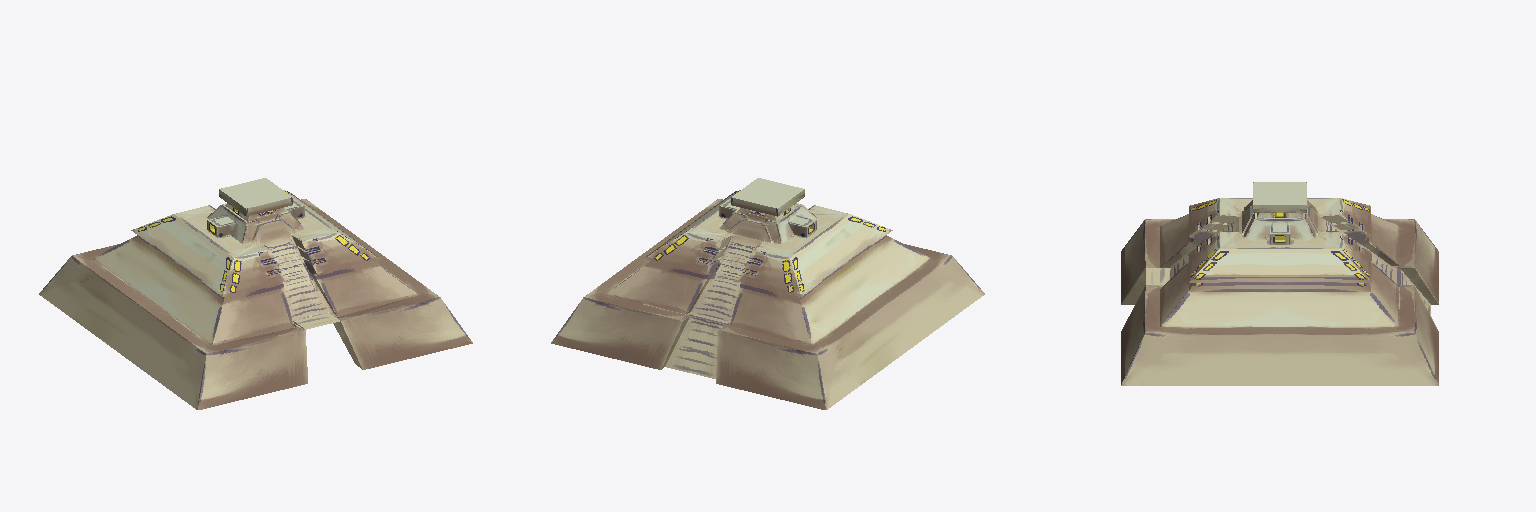
The picture shows the model from 3 angles: view 1: azimuth 30°, elevation 25°; view 2: azimuth 150°, elevation 25°; view 3: azimuth 270°, elevation 25°; orthographic projection.
Parts seen in each view (by area): view 1: PIRAMIDE_Material; view 2: PIRAMIDE_Material; view 3: PIRAMIDE_Material.
Boxes of the visible parts, x1,y1,x2,y2 form: PIRAMIDE_Material: [39, 178, 472, 409]; PIRAMIDE_Material: [551, 178, 984, 409]; PIRAMIDE_Material: [1121, 182, 1438, 385].
Size of the model in its own units: 56.85 by 24.74 by 56.85.
Materials: 1 (1 with a texture image).